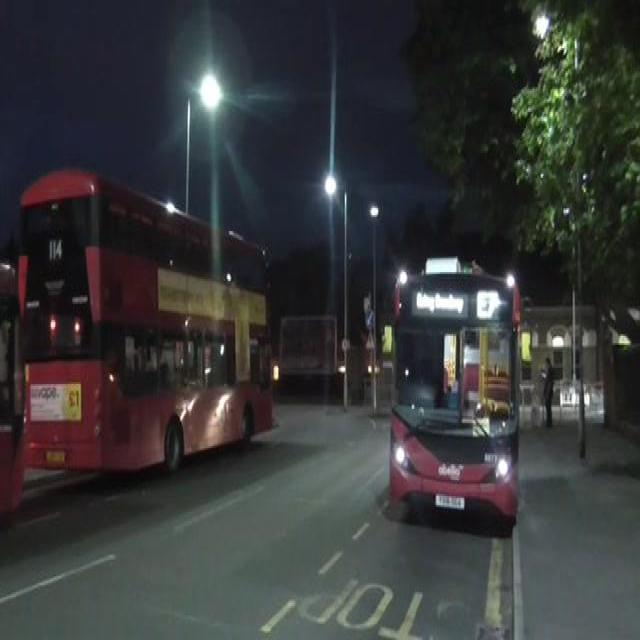motorcycle: (16, 162, 285, 490), (380, 256, 531, 516)
